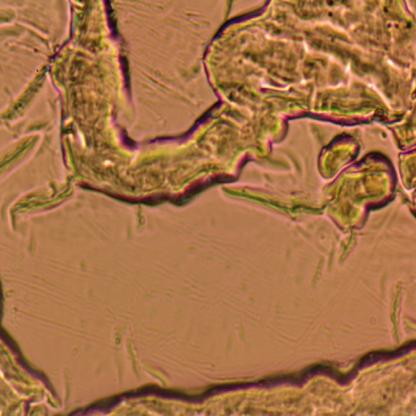Normal: (53, 0, 416, 229)
